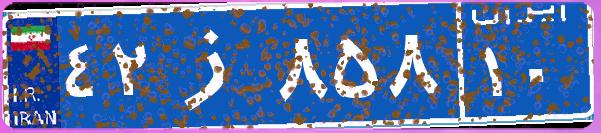0: (525, 38, 570, 115)
1: (475, 38, 525, 113)
2: (110, 28, 158, 105)
4: (57, 26, 110, 107)
5: (330, 28, 385, 110)
8: (385, 28, 445, 110), (273, 28, 330, 110)
ز: (158, 15, 273, 115)
